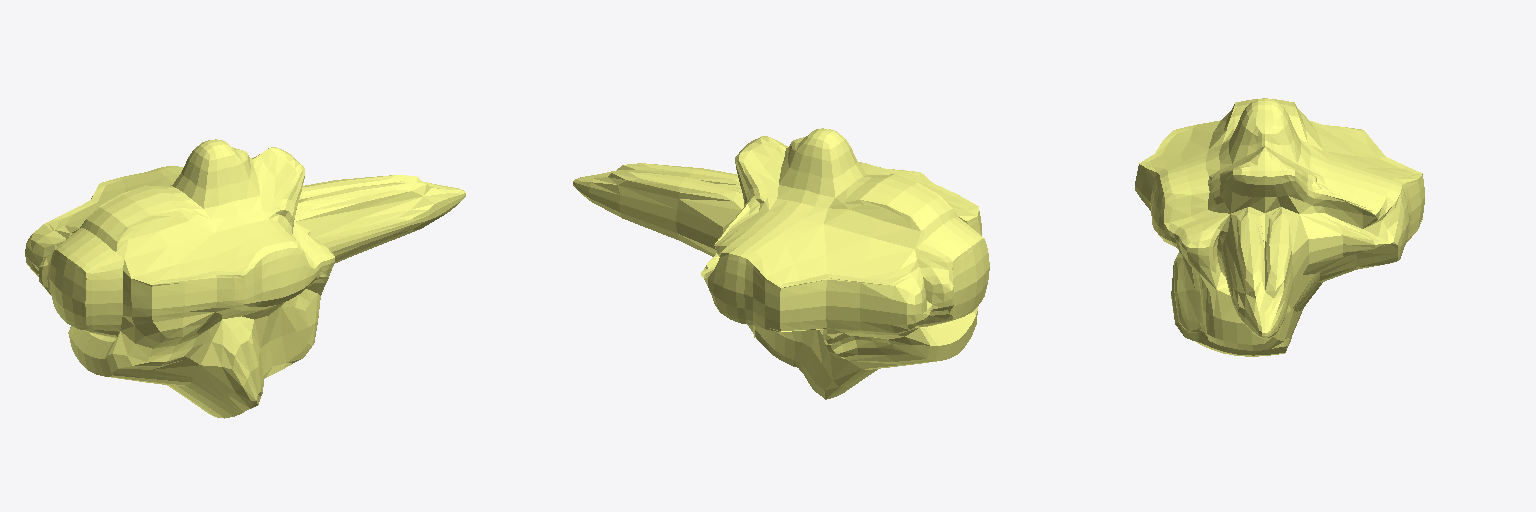
3 renders of one model, left to right at view 1: azimuth 30°, elevation 25°; view 2: azimuth 150°, elevation 25°; view 3: azimuth 270°, elevation 25°, orthographic.
Parts seen in each view (by area): view 1: Box001; view 2: Box001; view 3: Box001.
Boxes of the visible parts, x1=… form: Box001: x1=25, y1=139, x2=465, y2=418; Box001: x1=573, y1=128, x2=989, y2=399; Box001: x1=1135, y1=98, x2=1424, y2=356.
Size of the model in its own units: 144 by 89.64 by 89.83.
Materials: 1 (1 with a texture image).